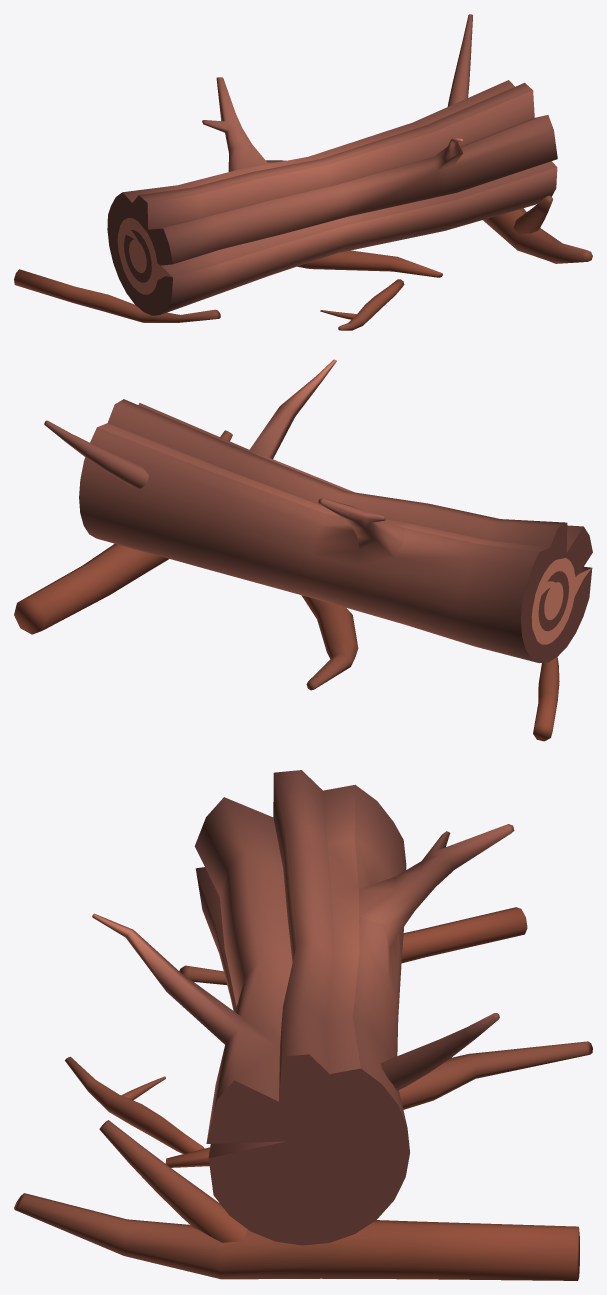
The model's file is Log_01.fbx.
3 views of the same model, one above another, from view 1: azimuth 30°, elevation 25°; view 2: azimuth 150°, elevation 25°; view 3: azimuth 270°, elevation 25° (orthographic). The views are drawn at different scales.
Parts seen in each view (by area): view 1: Log_01; view 2: Log_01; view 3: Log_01.
Boxes of the visible parts, bbox=[...] form: Log_01: bbox=[14, 14, 592, 330]; Log_01: bbox=[14, 359, 592, 741]; Log_01: bbox=[14, 770, 592, 1280].
Size of the model in its own units: 417 by 150 by 280.
